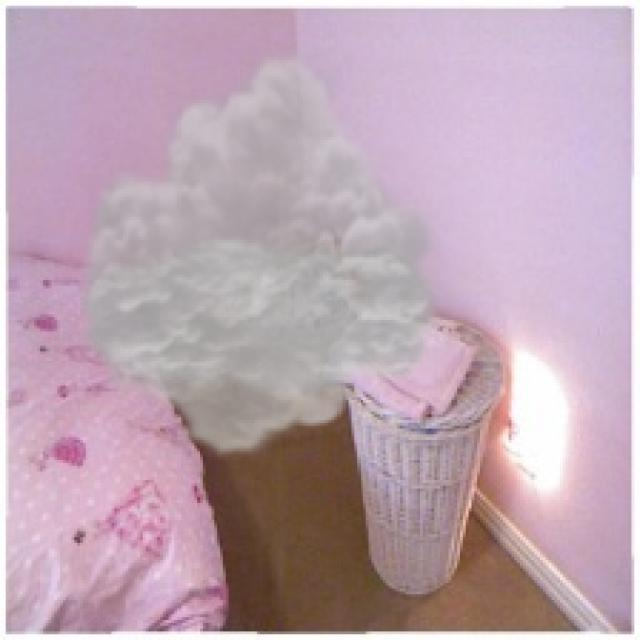Smoke: (69, 46, 448, 460)
